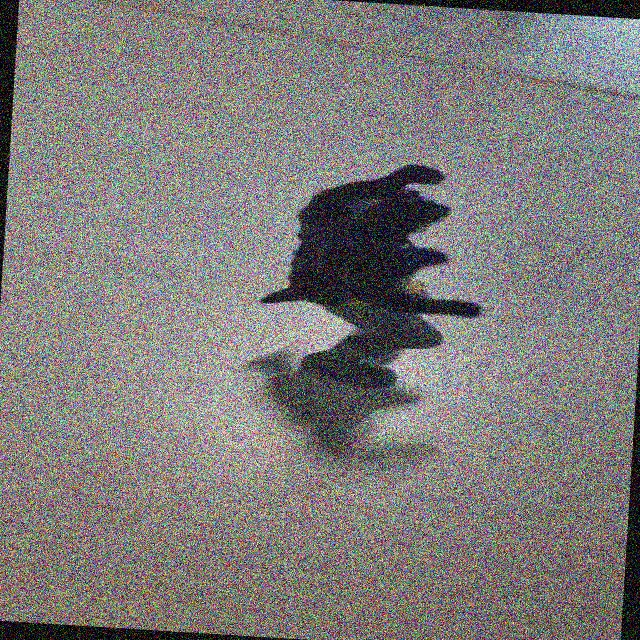Batman: (244, 148, 511, 419)
